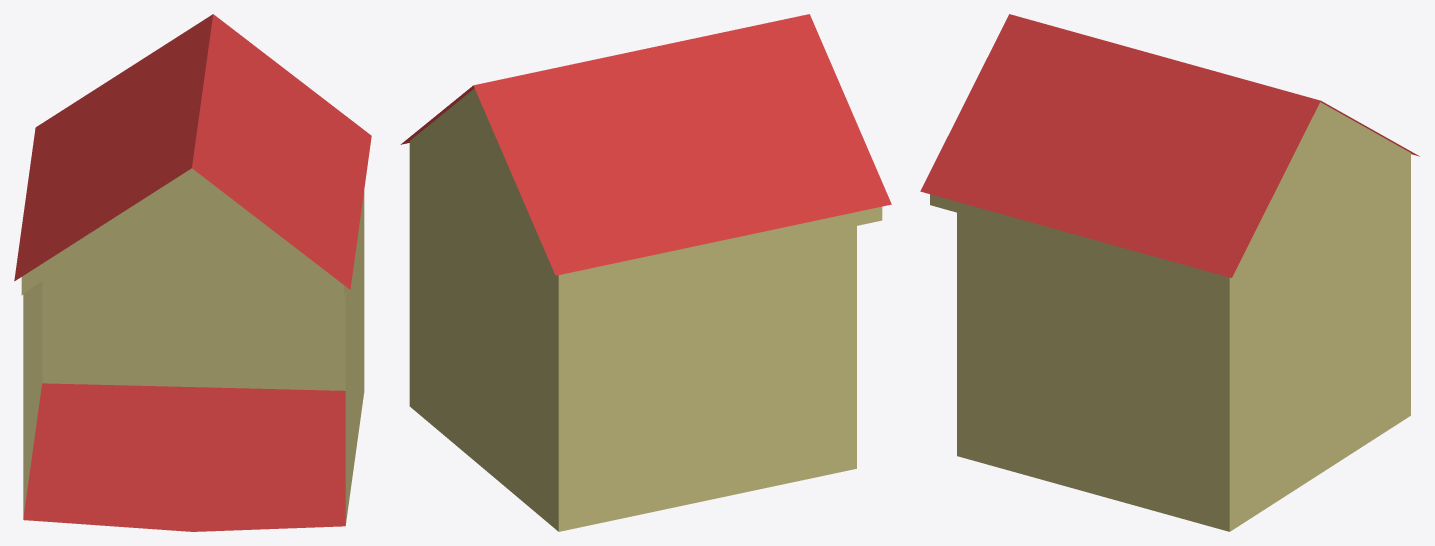
3 renders of one model, left to right at view 1: azimuth 30°, elevation 25°; view 2: azimuth 150°, elevation 25°; view 3: azimuth 270°, elevation 25°, orthographic. The views are drawn at different scales.
Bounding box in the file's own units: 17.23 × 17.52 × 14.61.
